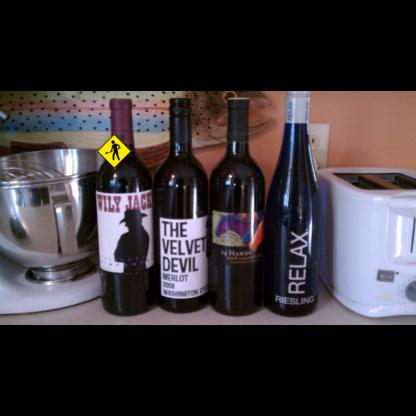A-24: (97, 134, 131, 168)
